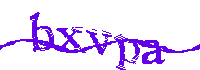a: (142, 37, 165, 68)
b: (30, 9, 54, 53)
p: (115, 34, 142, 70)
v: (88, 27, 111, 56)
x: (55, 24, 82, 53)
